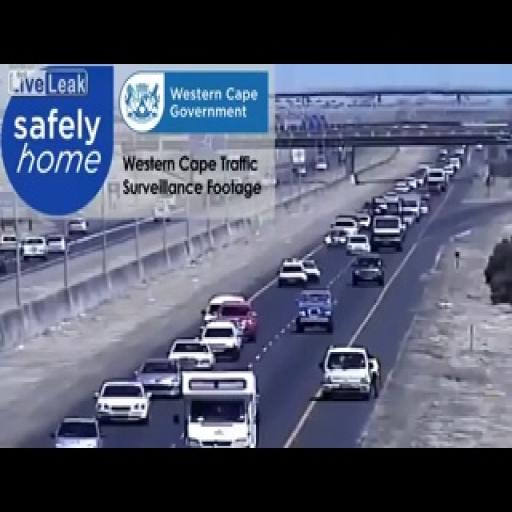Car: (185, 395, 253, 448), (318, 344, 378, 400), (94, 379, 149, 424), (134, 358, 186, 399), (294, 288, 333, 333), (198, 290, 246, 326), (168, 338, 217, 371), (53, 415, 101, 448), (201, 320, 242, 356), (217, 302, 257, 337), (370, 214, 404, 252), (350, 256, 385, 288), (278, 261, 308, 287), (20, 235, 48, 259), (346, 234, 372, 256), (334, 214, 360, 235), (399, 200, 420, 226), (300, 258, 322, 282), (45, 234, 67, 255), (325, 228, 350, 246), (427, 168, 447, 190), (380, 192, 401, 210), (0, 233, 19, 251), (68, 218, 88, 235), (354, 211, 372, 229), (372, 196, 391, 213), (415, 164, 432, 182), (402, 176, 419, 192), (394, 181, 412, 196), (314, 155, 328, 172), (443, 163, 457, 180), (448, 157, 462, 172), (420, 197, 430, 215), (362, 200, 374, 215), (293, 165, 306, 177), (454, 146, 465, 158), (438, 148, 448, 158), (475, 143, 483, 152)
Not Accident: (326, 195, 422, 288), (276, 258, 336, 335), (196, 290, 257, 358)
